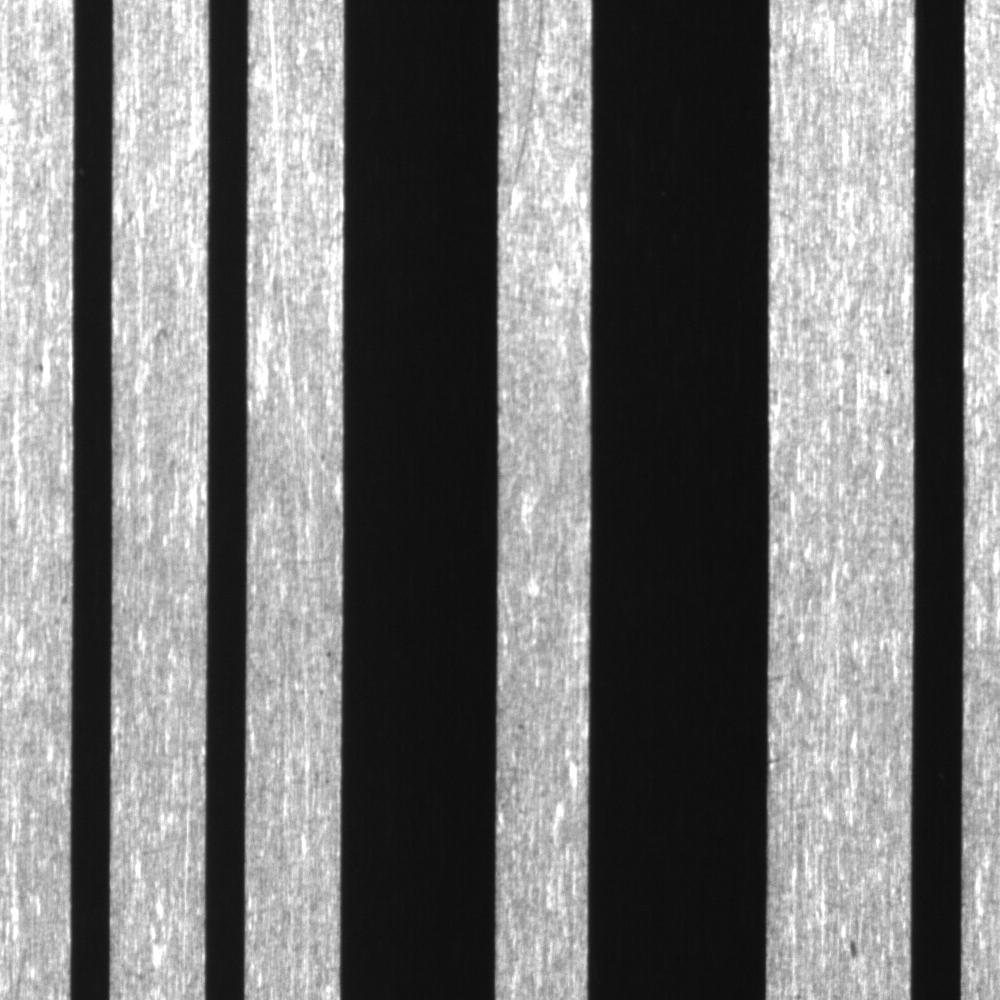Scar: (501, 1, 554, 223), (770, 872, 850, 916), (244, 541, 341, 577)
